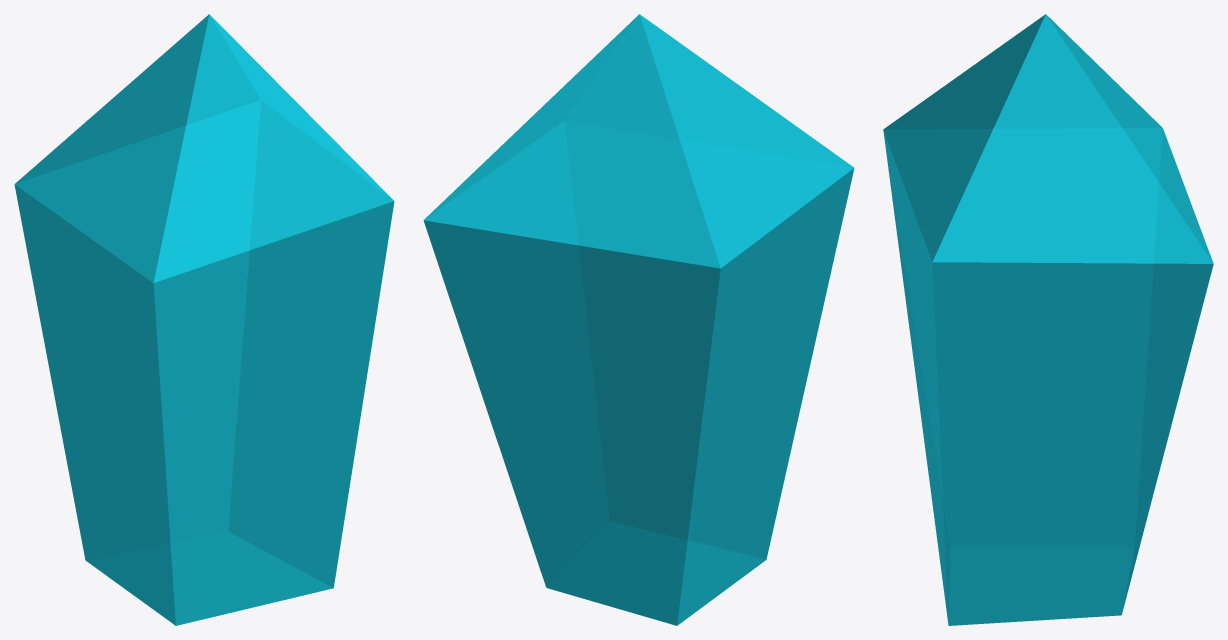
Rendered from Crystal.fbx.
3 renders of one model, left to right at view 1: azimuth 30°, elevation 25°; view 2: azimuth 150°, elevation 25°; view 3: azimuth 270°, elevation 25°, orthographic. The views are drawn at different scales.
Parts seen in each view (by area): view 1: Crystal; view 2: Crystal; view 3: Crystal.
Part boxes in pixels (left/top/right/bottom): Crystal: left=14, top=14, right=394, bottom=625; Crystal: left=423, top=14, right=854, bottom=625; Crystal: left=883, top=14, right=1213, bottom=625.
Size of the model in its own units: 114 by 224 by 117.
